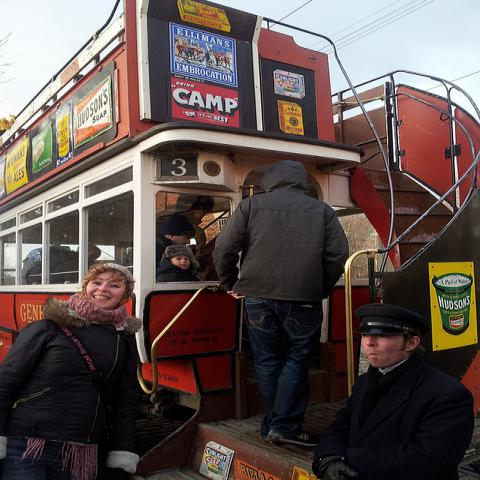bus: (1, 0, 392, 397)
